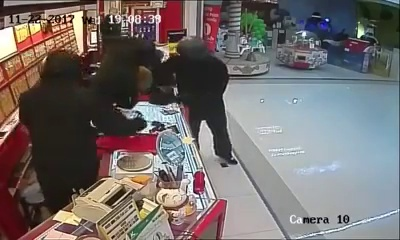helmet: (175, 33, 209, 62)
